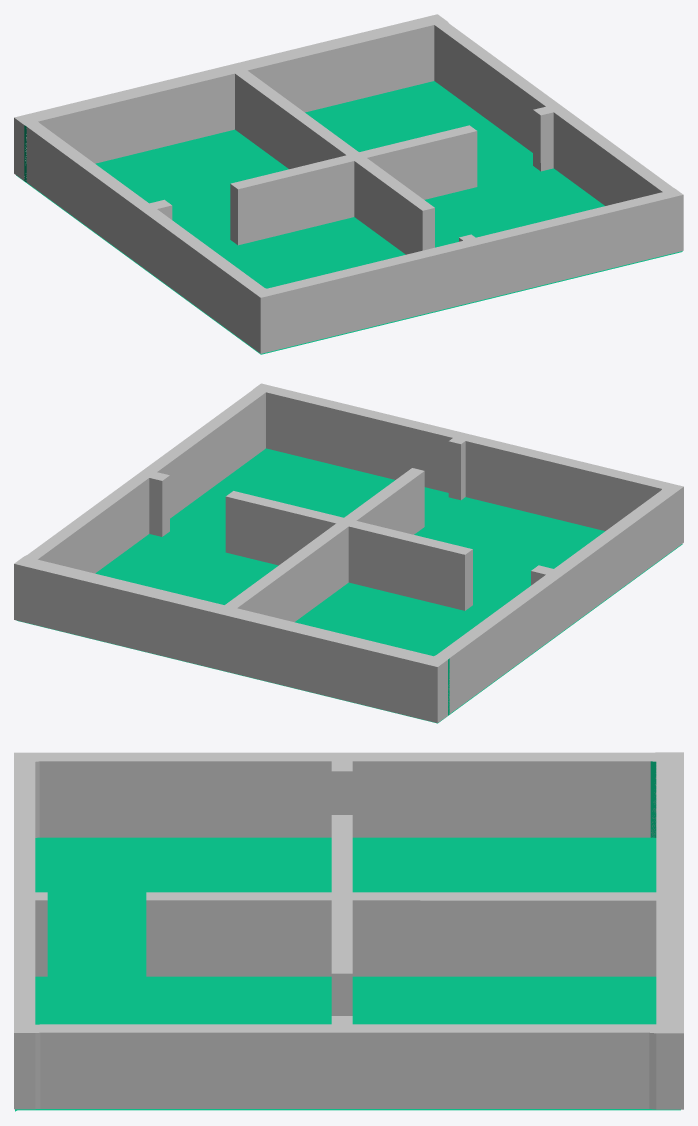
The picture shows the model from 3 angles, top to bottom: view 1: azimuth 30°, elevation 25°; view 2: azimuth 150°, elevation 25°; view 3: azimuth 270°, elevation 25°; orthographic projection. The views are drawn at different scales.
Visible parts, largest first — view 1: Cube; view 2: Cube; view 3: Cube.
Boxes of the visible parts, x1=… form: Cube: x1=14, y1=14, x2=683, y2=354; Cube: x1=14, y1=383, x2=683, y2=723; Cube: x1=14, y1=752, x2=683, y2=1111.
Bounding box in the file's own units: 1583 × 205 × 1594.
